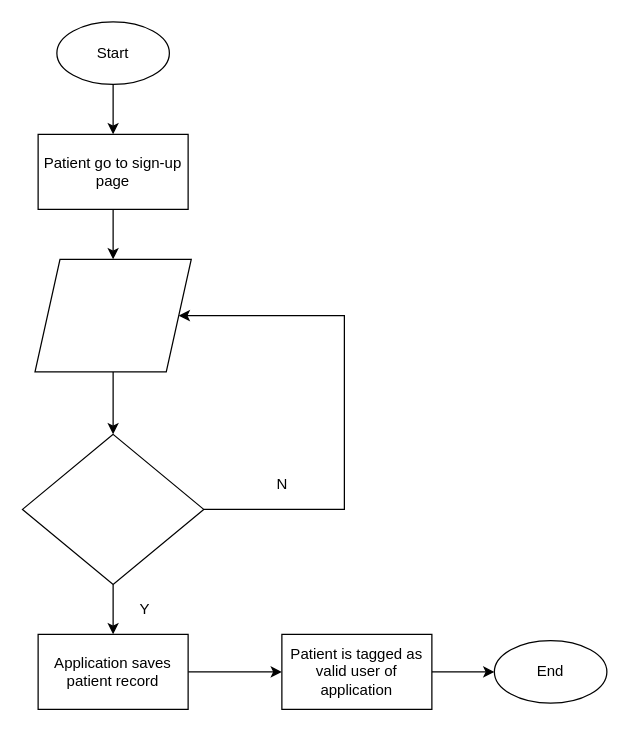
The diagram is 629 pixels wide and 731 high, and some of its shapes have lost their labels. Here are the shapes that lost their labels. From the top down, the centre of each, then its label:
At (112,315): "Patient inputs Name, Address, Birthdate, Password".
At (112,508): "Is patient sure with information?".
